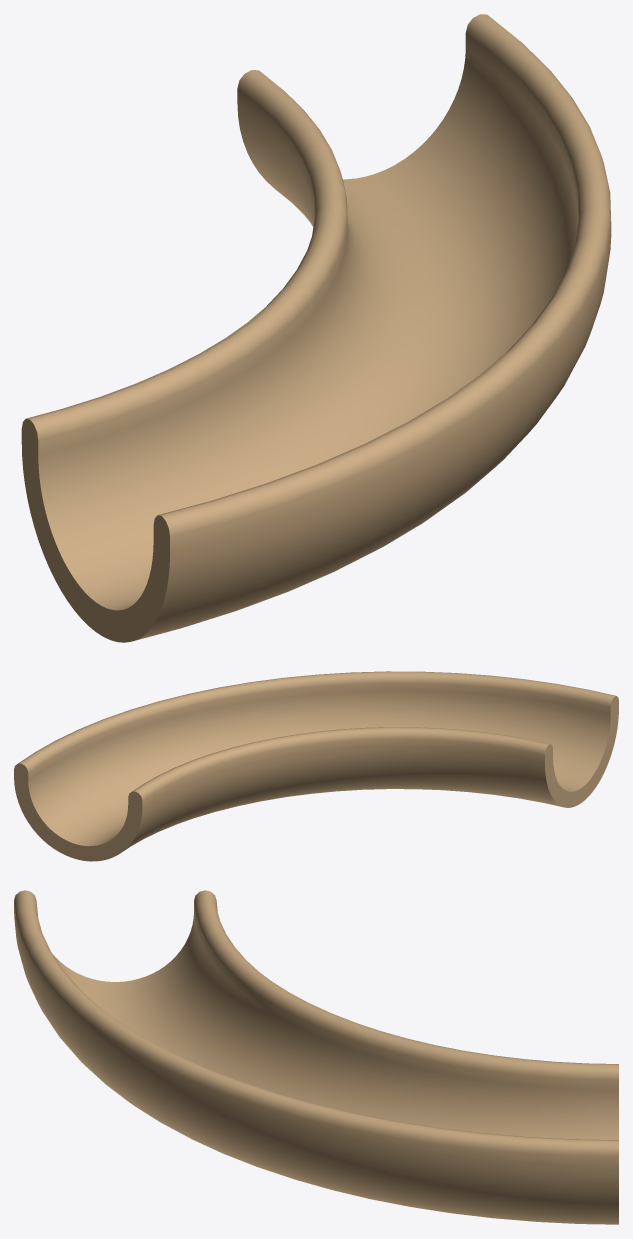
File: rail_curve90_r90_l2.glb
3 views of the same model, one above another, from view 1: azimuth 30°, elevation 25°; view 2: azimuth 150°, elevation 25°; view 3: azimuth 270°, elevation 25° (orthographic). The views are drawn at different scales.
Visible parts, largest first — view 1: rail_curve90_r90_l2_lod0; view 2: rail_curve90_r90_l2_lod0; view 3: rail_curve90_r90_l2_lod0.
Part boxes in pixels (x1,y1,x2,y2): rail_curve90_r90_l2_lod0: (21,14,611,642); rail_curve90_r90_l2_lod0: (14,671,618,861); rail_curve90_r90_l2_lod0: (14,890,618,1224).
Size of what is drawn, in the model's own units: 0.1075 by 0.022 by 0.1075.
